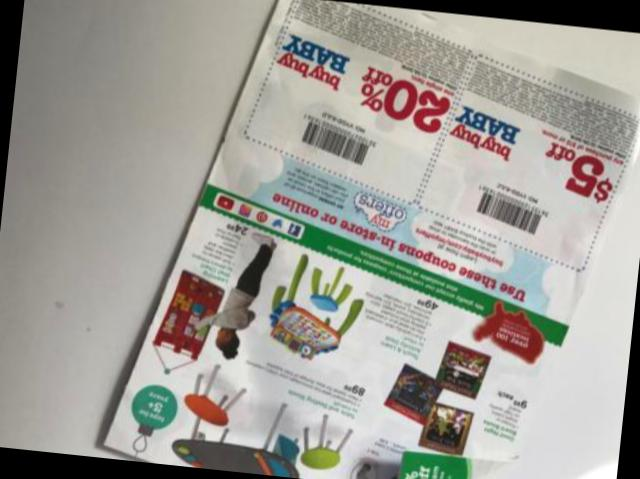cardboard paper: (103, 0, 640, 479)
